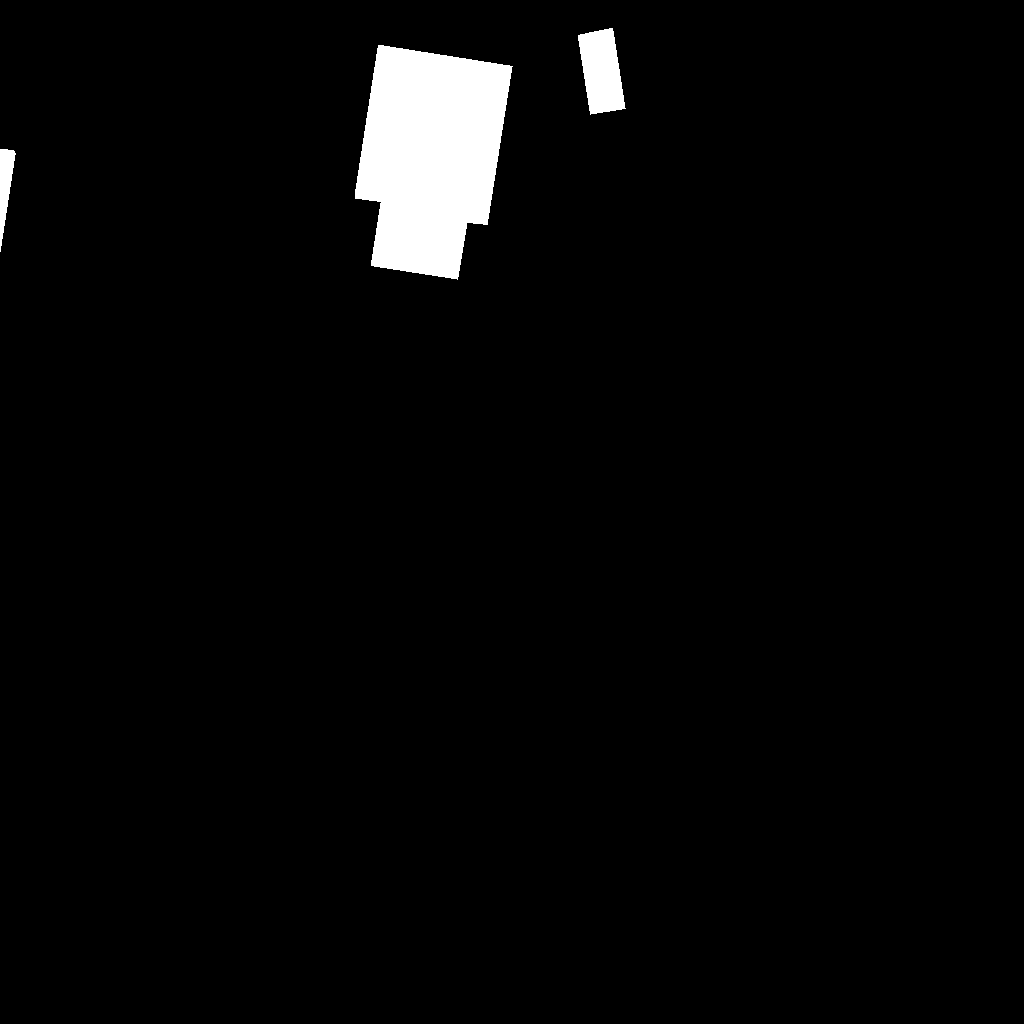building: (355, 45, 513, 280), (578, 28, 626, 115), (0, 149, 16, 256)
